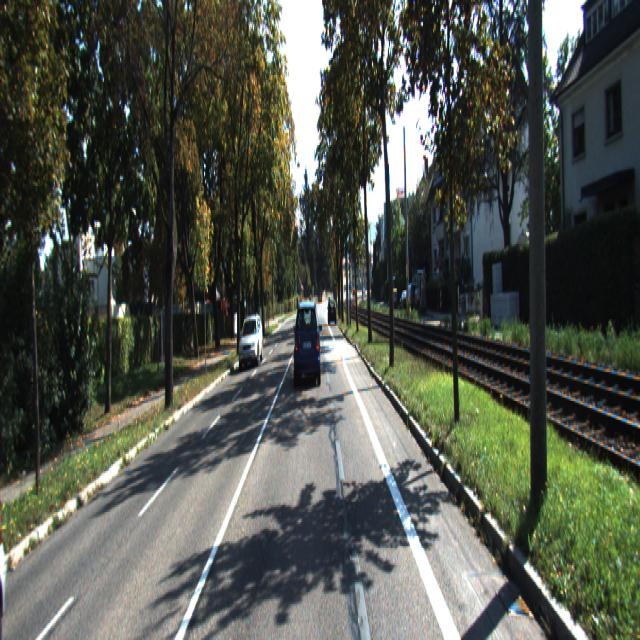Car: (293, 303, 322, 393), (238, 314, 264, 370), (328, 297, 337, 324)
